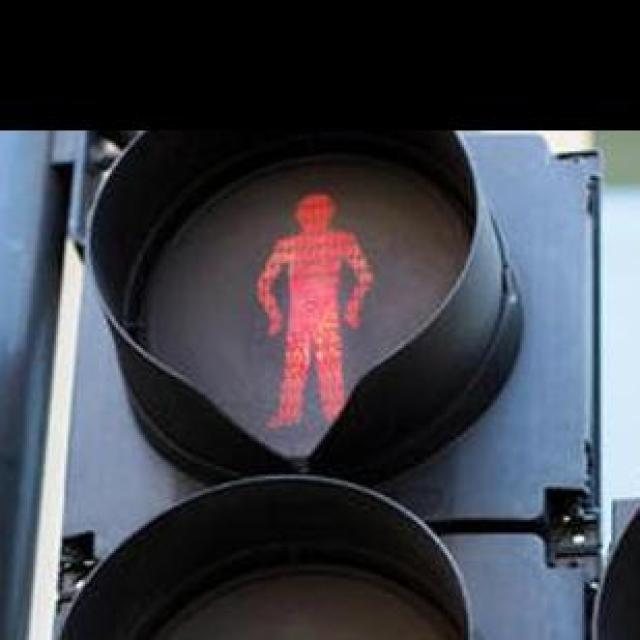red-crossing: (103, 149, 530, 487)
